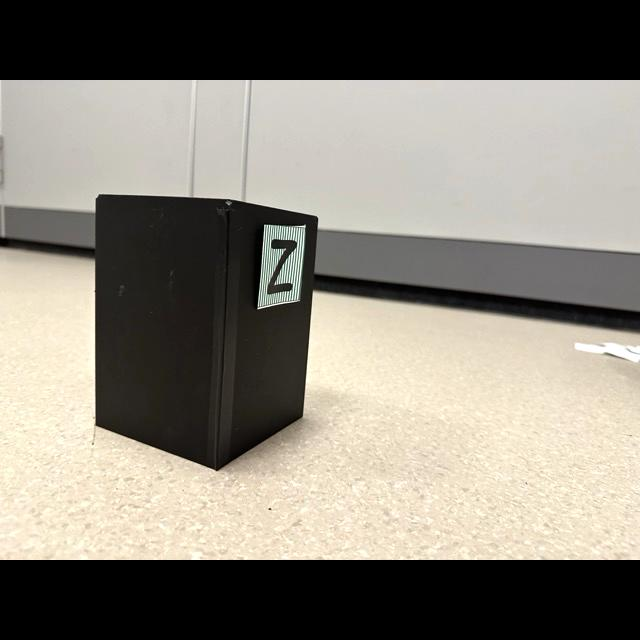Z: (268, 240, 297, 295)
